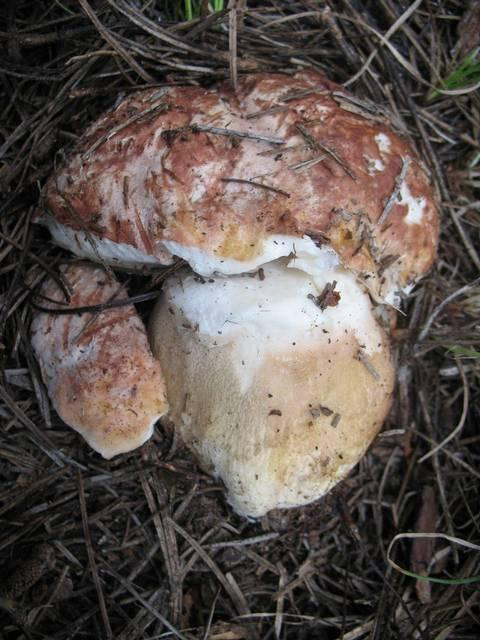Edible Mushroom: (29, 68, 442, 520)
